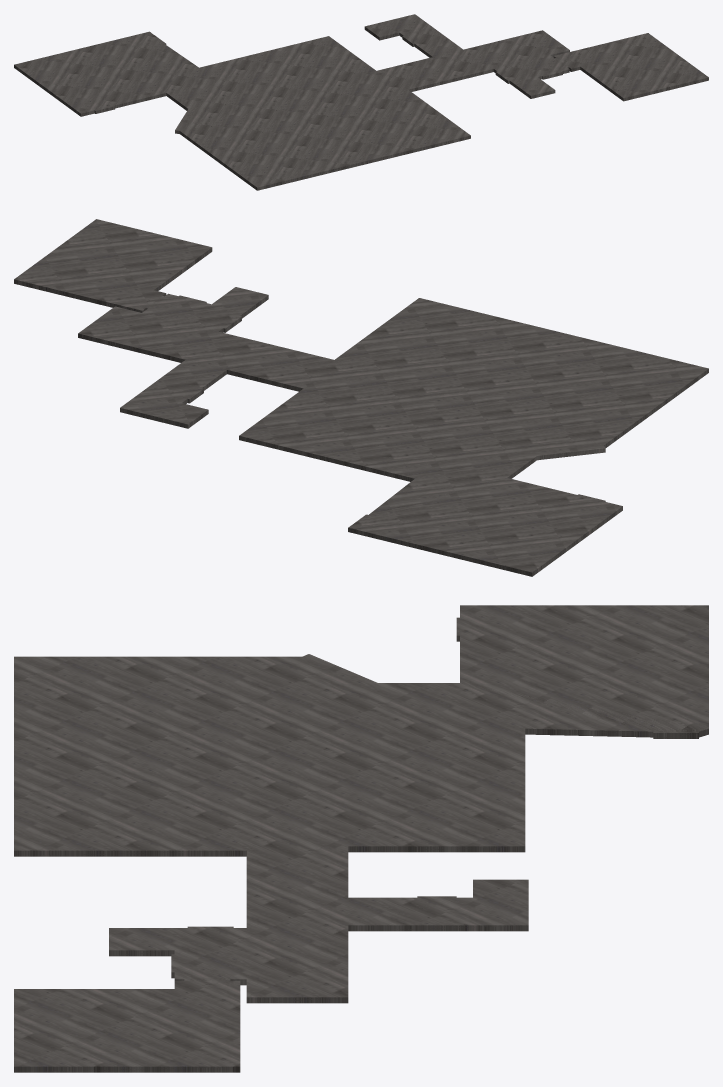
File: Floor_CastinePlusWhitefillOak.glb
3 views of the same model, one above another, from view 1: azimuth 30°, elevation 25°; view 2: azimuth 150°, elevation 25°; view 3: azimuth 270°, elevation 25° (orthographic). The views are drawn at different scales.
Parts seen in each view (by area): view 1: Floors_Castine_cove_plus; view 2: Floors_Castine_cove_plus; view 3: Floors_Castine_cove_plus.
Part boxes in pixels (box(x1,y1,x2,y2)): Floors_Castine_cove_plus: box(14, 14, 708, 190); Floors_Castine_cove_plus: box(14, 219, 708, 576); Floors_Castine_cove_plus: box(14, 605, 708, 1072).
Bounding box in the file's own units: 33.3 × 0.3 × 21.2.
Materials: 1 (1 with a texture image).
